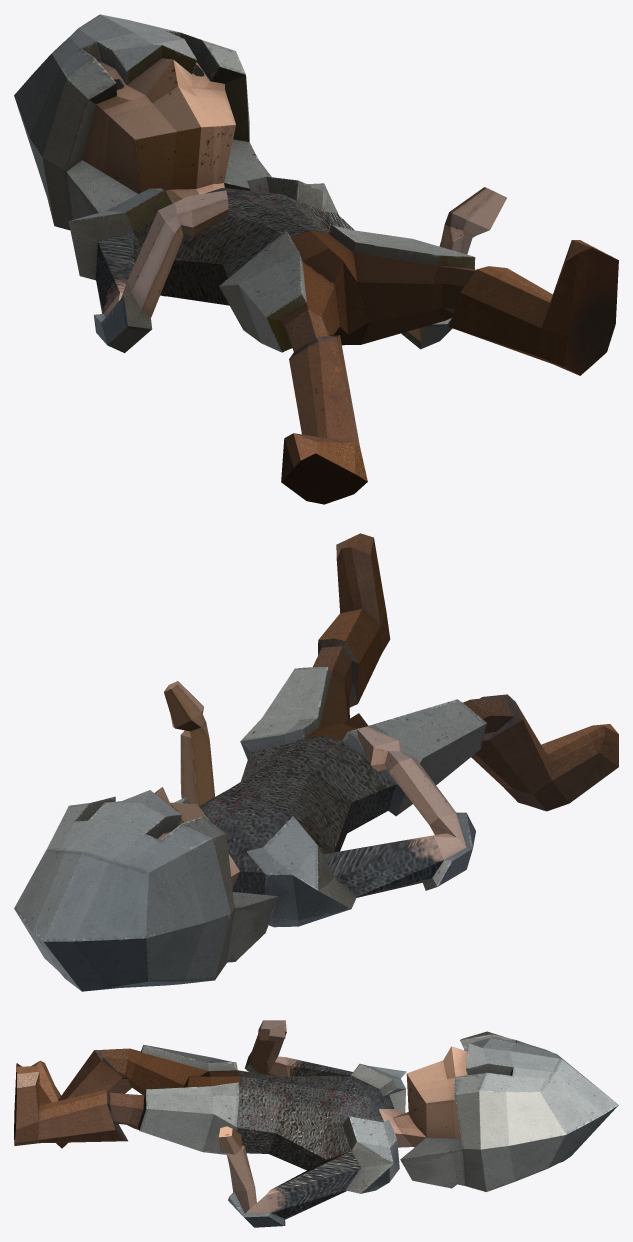
File: Walk_Soldier_21.obj
The picture shows the model from 3 angles, top to bottom: view 1: azimuth 30°, elevation 25°; view 2: azimuth 150°, elevation 25°; view 3: azimuth 270°, elevation 25°; orthographic projection. The views are drawn at different scales.
Visible parts, largest first — view 1: Soldado_LowPolySTD; view 2: Soldado_LowPolySTD; view 3: Soldado_LowPolySTD.
Boxes of the visible parts, x1,y1,x2,y2 form: Soldado_LowPolySTD: (14, 14, 618, 504); Soldado_LowPolySTD: (14, 533, 618, 991); Soldado_LowPolySTD: (14, 1020, 618, 1227).
Size of the model in its own units: 0.7692 by 0.4629 by 1.59.
